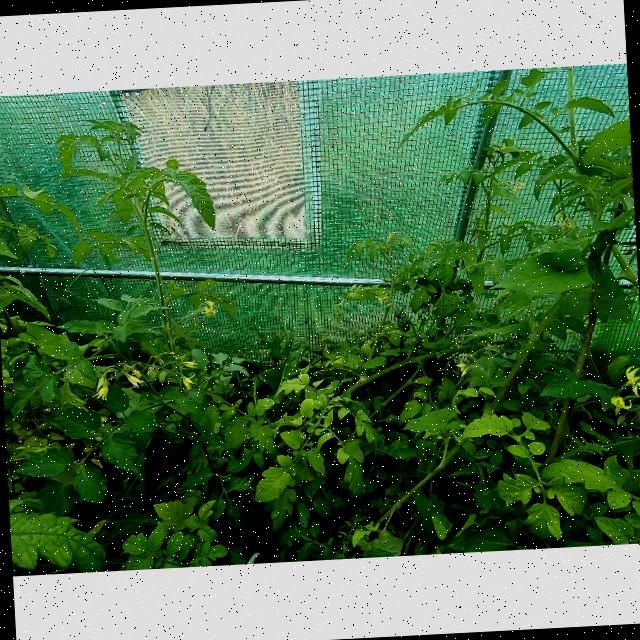Flowers: (90, 372, 112, 402), (122, 365, 146, 389), (608, 396, 636, 416), (623, 365, 640, 396), (199, 301, 220, 319), (456, 358, 475, 377), (179, 373, 197, 391), (506, 180, 528, 194), (176, 361, 200, 372), (562, 218, 578, 234), (378, 296, 394, 309), (147, 365, 158, 377), (554, 212, 564, 222)
